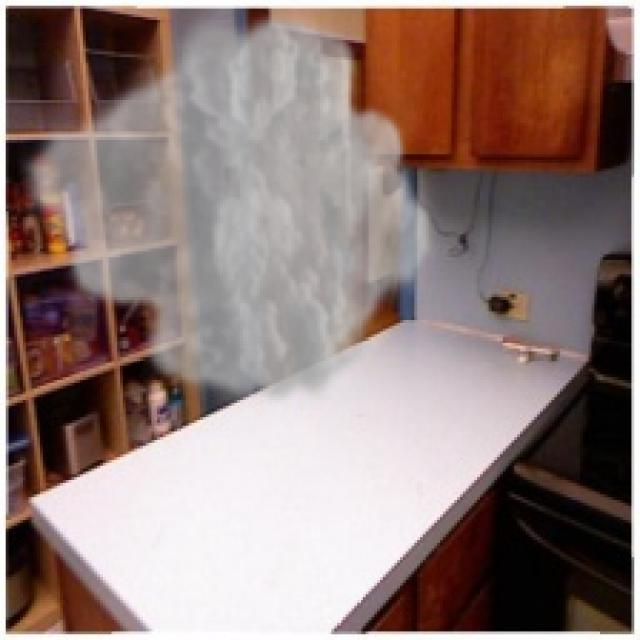Smoke: (17, 2, 437, 412)
